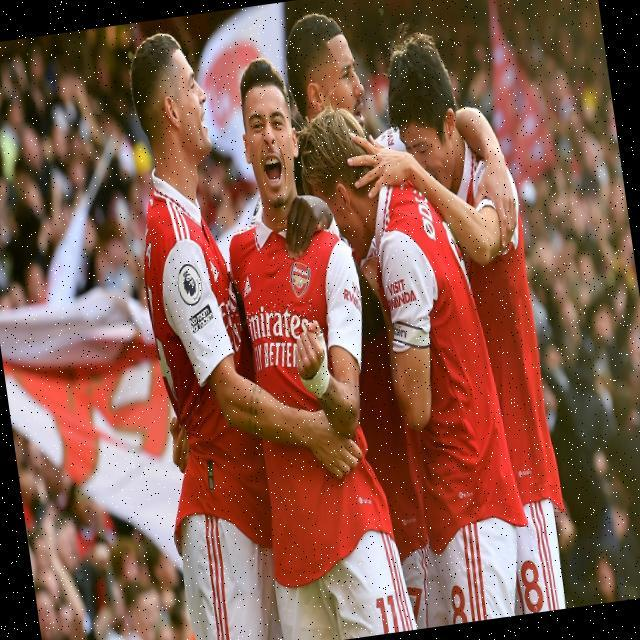Adidas: (208, 256, 222, 283), (241, 274, 254, 297)
Emirates: (245, 299, 316, 343), (214, 278, 245, 327)
